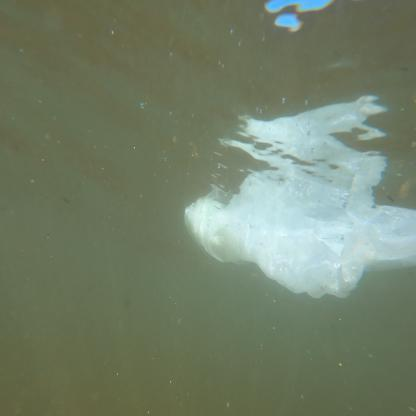Rác: (170, 190, 415, 300)
